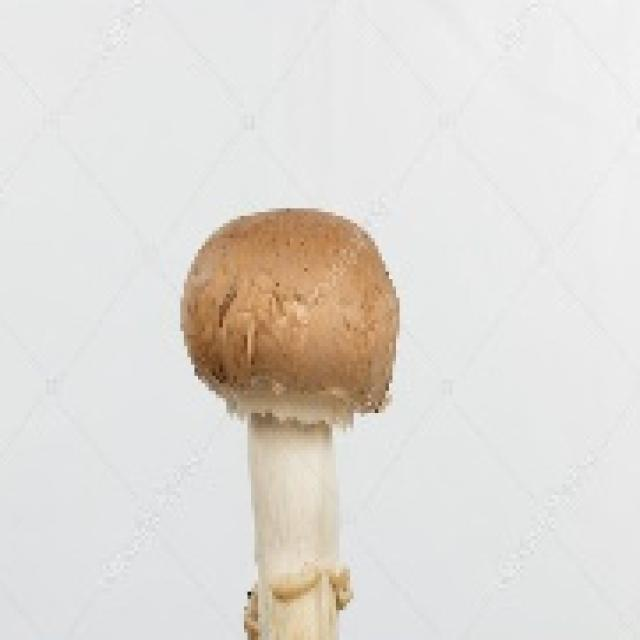mushroom: (173, 190, 410, 640)
